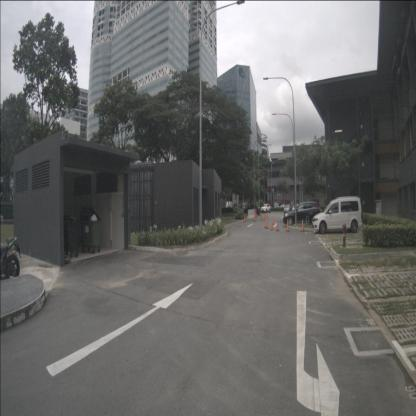movable_object-barrier: (247, 209, 255, 219), (254, 209, 257, 218)
movable_object-trafficcone: (286, 218, 290, 232), (301, 218, 305, 232), (265, 216, 269, 229), (270, 218, 274, 231), (264, 216, 268, 228), (276, 219, 280, 231), (253, 213, 256, 222), (243, 213, 246, 222), (272, 214, 274, 226), (260, 212, 263, 219), (263, 213, 266, 220), (261, 212, 263, 220)
vehicle-car: (312, 196, 363, 235), (283, 201, 320, 227), (244, 204, 260, 216), (260, 203, 271, 213), (283, 204, 292, 214)
vehicle-motorcycle: (0, 236, 22, 282)
